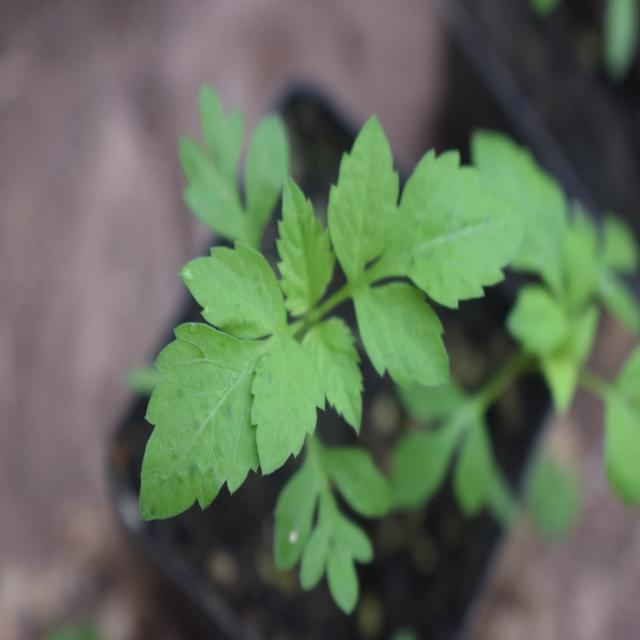Bidens pilosa: (120, 91, 520, 555)
